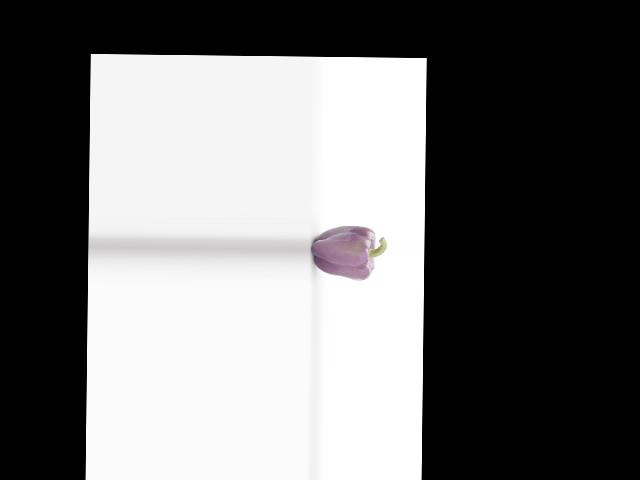bell_pepper: (312, 219, 386, 285)
